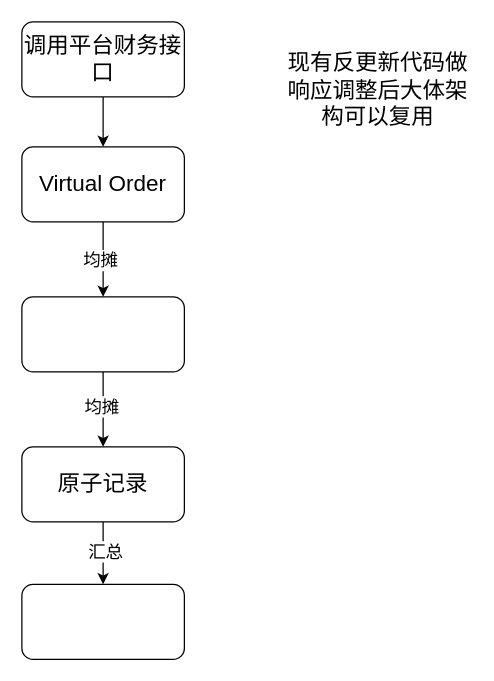
Image size: 494x681. Some labels were removed from this diagram. The centre of each missing label's shape, as x and y in pixels:
店子记录: point (102, 334)
物理订单: point (102, 621)
